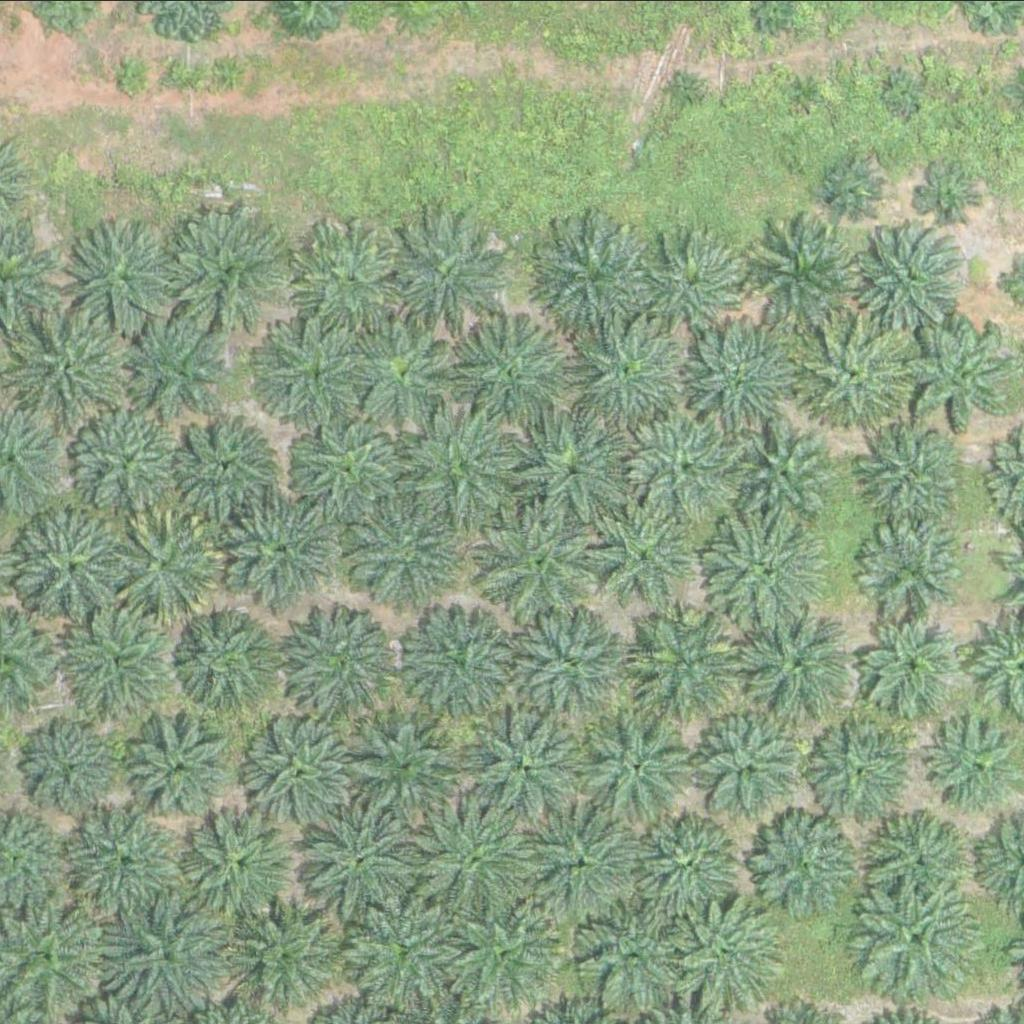Kelapa_Sawit: (63, 209, 189, 334), (159, 210, 285, 335), (11, 308, 137, 433), (15, 506, 141, 631), (112, 895, 238, 1020), (251, 309, 377, 434), (287, 402, 413, 527), (289, 215, 415, 340), (672, 885, 798, 1010), (574, 892, 700, 1017), (411, 800, 537, 925), (515, 798, 641, 923), (622, 802, 748, 927), (743, 806, 869, 931), (693, 704, 819, 829), (576, 704, 702, 829), (279, 597, 405, 722), (397, 594, 523, 719), (623, 598, 749, 723), (739, 599, 865, 724), (479, 501, 605, 626), (347, 494, 473, 619), (219, 489, 345, 614), (410, 405, 536, 530), (513, 411, 639, 536), (635, 403, 761, 528), (686, 316, 812, 441), (572, 308, 698, 433), (451, 313, 577, 438), (389, 211, 515, 336), (534, 215, 660, 340), (754, 204, 880, 329), (854, 877, 980, 1002), (112, 499, 237, 624), (54, 597, 179, 722), (297, 799, 422, 924), (459, 698, 584, 823), (347, 698, 472, 823), (510, 598, 635, 723), (706, 503, 831, 628), (129, 314, 242, 427), (69, 402, 182, 515), (345, 897, 458, 1010), (901, 314, 1014, 427), (73, 798, 186, 910), (224, 898, 337, 1010), (186, 802, 299, 914), (861, 218, 974, 330), (796, 314, 909, 426), (170, 420, 271, 520), (170, 610, 271, 710), (130, 715, 231, 815), (23, 723, 124, 823), (451, 902, 552, 1002), (253, 720, 354, 820), (597, 503, 698, 603), (649, 229, 750, 329), (863, 422, 964, 522), (862, 523, 963, 623), (865, 613, 966, 713), (812, 725, 913, 825), (861, 811, 962, 911), (359, 322, 459, 422), (745, 431, 834, 518), (917, 165, 980, 228), (819, 155, 882, 218), (883, 75, 921, 113), (785, 71, 823, 109), (666, 70, 704, 108), (117, 57, 155, 94)
